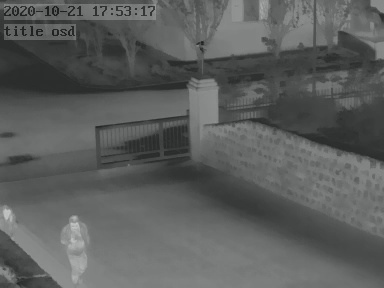person: (61, 213, 89, 288)
